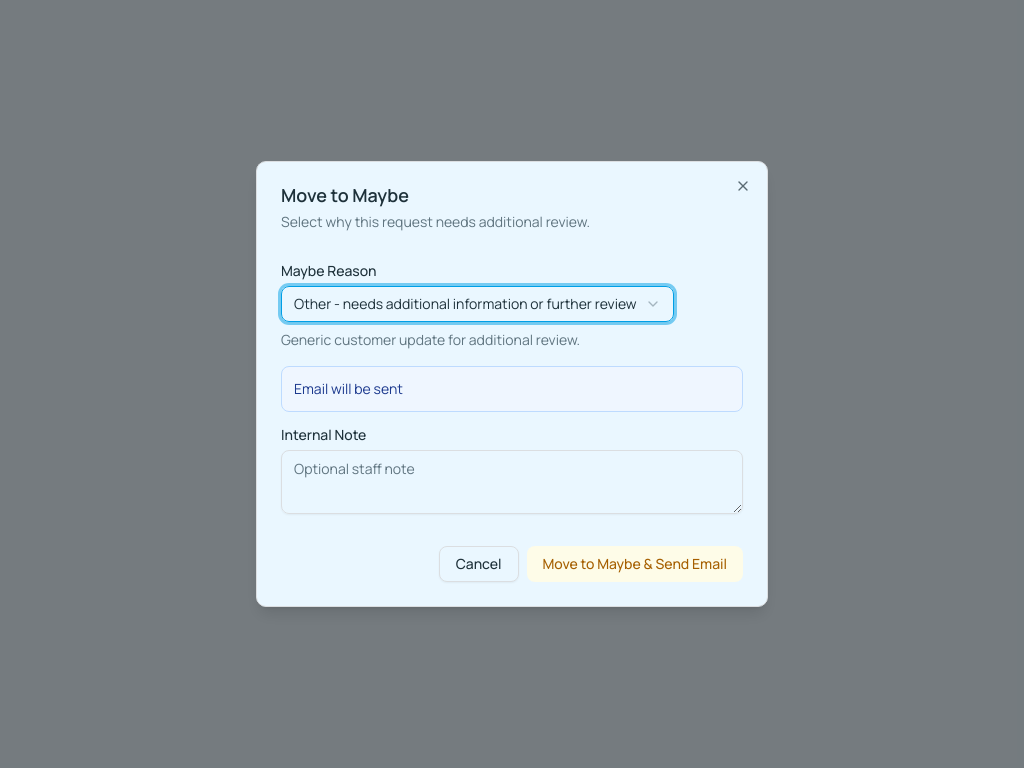
Test: MaybeReasonDialog › offers More Info Needed as an explicit email-sending action
Click the dropdown named "Maybe Reason". click: (477, 304)
box: [281,286,674,322]
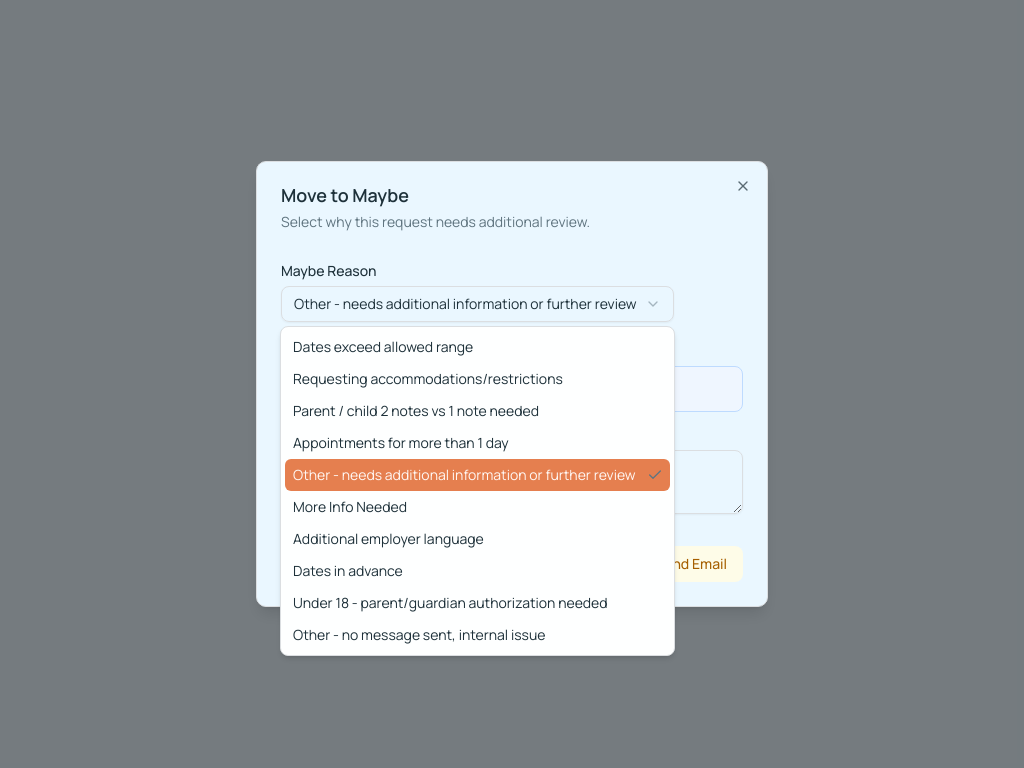
Click the option "More Info Needed". click: (350, 506)
box: [293,497,407,516]
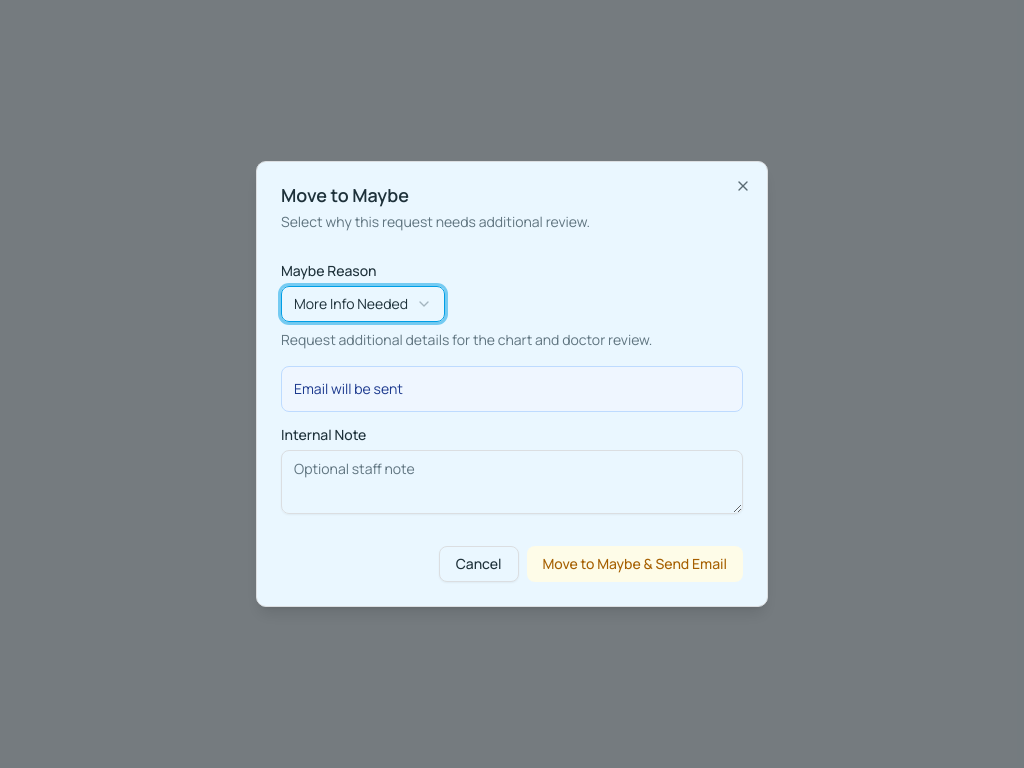
expect the text "Email will be sent" is shown: met, box [281,366,743,412]
expect the dropdown named "Maybe Reason" reads "More Info Needed": met, box [281,286,445,322]
expect the text "Request additional details for the chart and doctor review." is shown: met, box [281,330,652,349]
